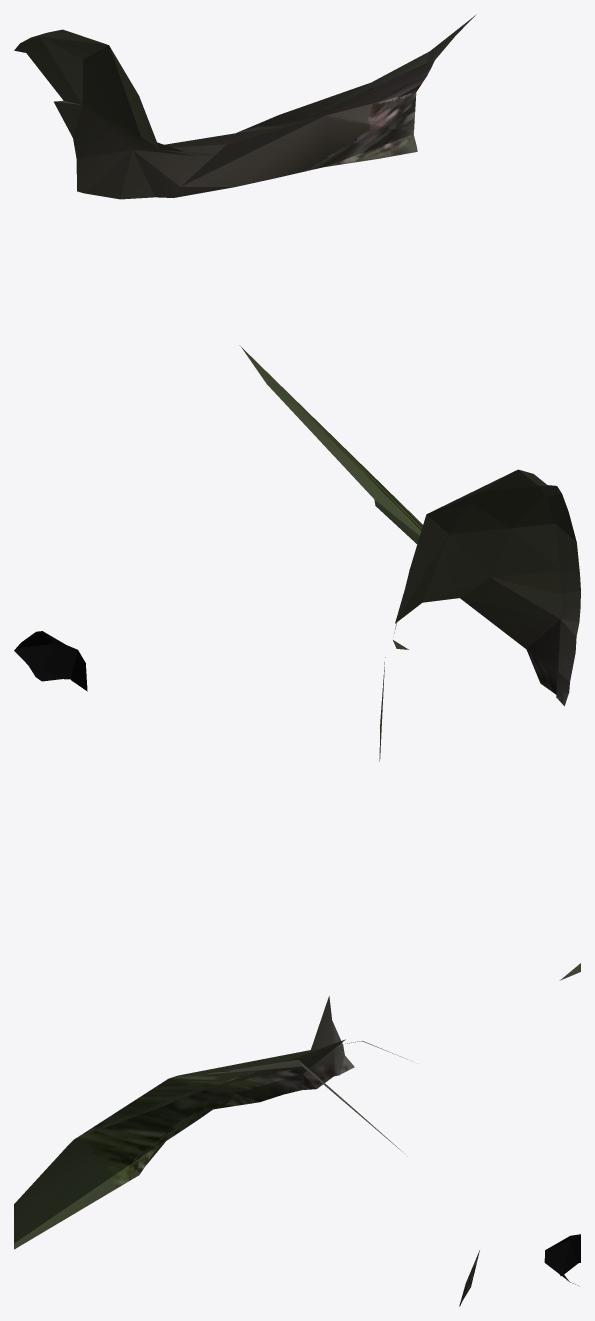
The picture shows the model from 3 angles, top to bottom: view 1: azimuth 30°, elevation 25°; view 2: azimuth 150°, elevation 25°; view 3: azimuth 270°, elevation 25°; orthographic projection. The views are drawn at different scales.
Bounding box in the file's own units: 2.95 × 1.58 × 2.95.
3 materials, 3 textured.
